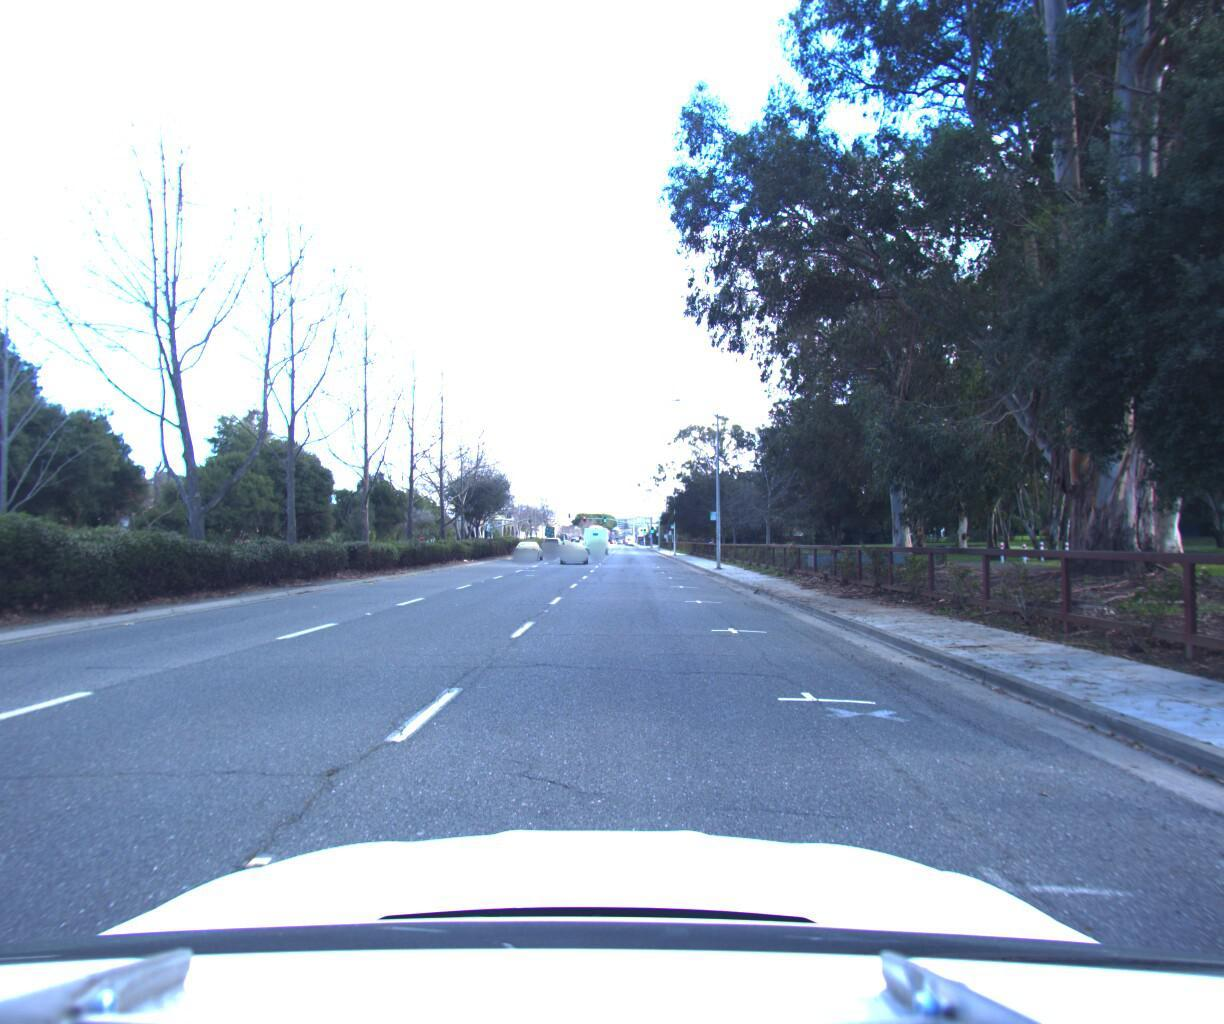bus: (583, 515, 614, 545)
car: (557, 533, 589, 558), (512, 531, 545, 552), (543, 528, 569, 547)
